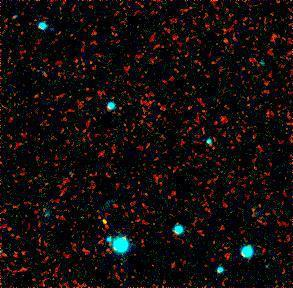star: (89, 200, 119, 230)
